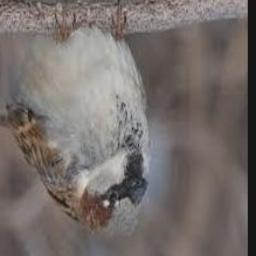Sparrow: (0, 0, 150, 238)
